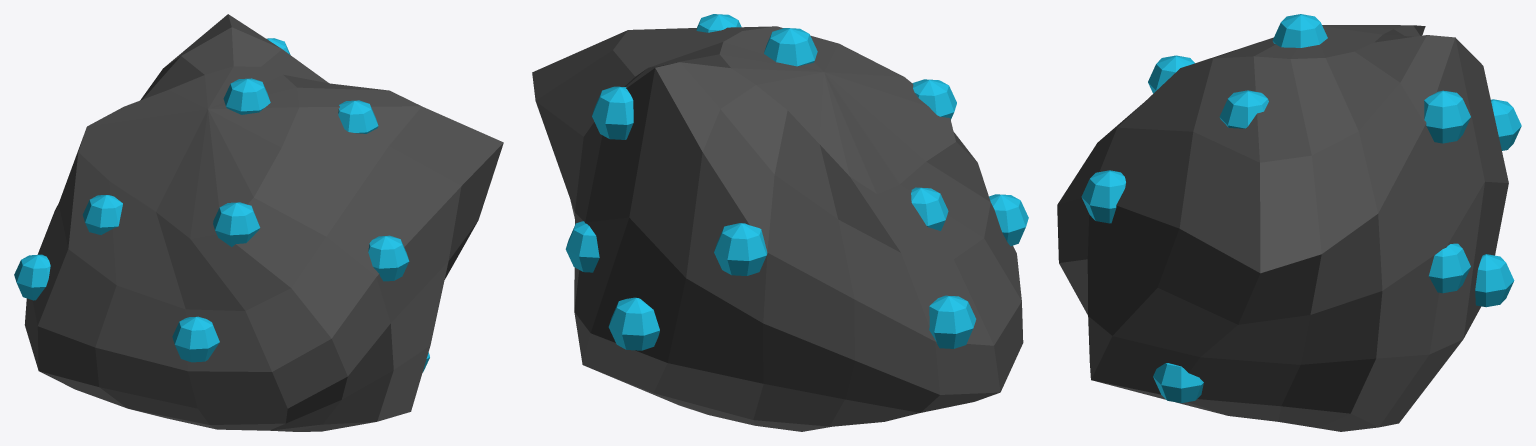
File: Ores.fbx
3 renders of one model, left to right at view 1: azimuth 30°, elevation 25°; view 2: azimuth 150°, elevation 25°; view 3: azimuth 270°, elevation 25°, orthographic. The views are drawn at different scales.
Parts seen in each view (by area): view 1: DiamondOre, Sphere.010, Sphere.002, Sphere.007, Sphere.001, Sphere.009, Sphere.008, Sphere.004; view 2: DiamondOre, Sphere.012, Sphere.011, Sphere.009, Sphere.003, Sphere.001, Sphere.010, Sphere.006, Sphere.002, Sphere.008, Sphere.004; view 3: DiamondOre, Sphere.003, Sphere.007, Sphere.011, Sphere.006, Sphere.005, Sphere.001, Sphere.004, Sphere.012, Sphere.002.
Part boxes in pixels (box(x1,y1,x2,y2)): DiamondOre: box(24, 14, 503, 431); Sphere.010: box(172, 316, 219, 362); Sphere.002: box(213, 202, 260, 246); Sphere.007: box(368, 235, 409, 281); Sphere.001: box(223, 78, 270, 114); Sphere.009: box(14, 254, 50, 300); Sphere.008: box(82, 195, 122, 234); Sphere.004: box(338, 100, 378, 133); DiamondOre: box(532, 26, 1023, 431); Sphere.012: box(714, 223, 767, 275); Sphere.011: box(608, 297, 659, 350); Sphere.009: box(929, 295, 976, 348); Sphere.003: box(592, 86, 633, 139); Sphere.001: box(764, 28, 817, 66); Sphere.010: box(989, 194, 1028, 246); Sphere.006: box(565, 221, 599, 272); Sphere.002: box(912, 79, 956, 119); Sphere.008: box(911, 187, 948, 230); Sphere.004: box(696, 14, 741, 32); DiamondOre: box(1057, 25, 1508, 431); Sphere.003: box(1424, 90, 1470, 143); Sphere.007: box(1081, 170, 1125, 223); Sphere.011: box(1475, 254, 1514, 307); Sphere.006: box(1429, 243, 1470, 293); Sphere.005: box(1153, 363, 1203, 403); Sphere.001: box(1272, 14, 1327, 47); Sphere.004: box(1219, 90, 1268, 128); Sphere.012: box(1491, 99, 1521, 150); Sphere.002: box(1148, 55, 1194, 93).
Size of the model in its own units: 2.69 by 1.99 by 2.18.
